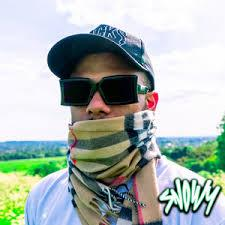cap: (43, 21, 181, 95)
scarf-kerchief: (62, 107, 174, 201)
sunglasses: (56, 73, 143, 111)
